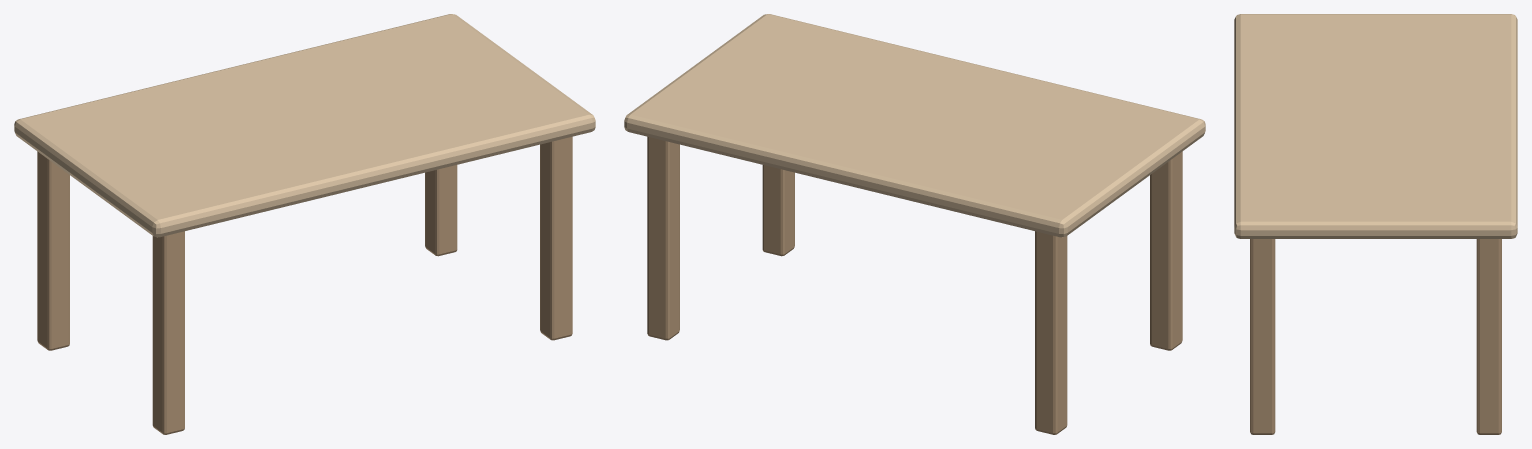
Rendered from th_tisch.glb.
3 renders of one model, left to right at view 1: azimuth 30°, elevation 25°; view 2: azimuth 150°, elevation 25°; view 3: azimuth 270°, elevation 25°, orthographic.
Visible parts, largest first — view 1: tisch; view 2: tisch; view 3: tisch.
Boxes of the visible parts, box(x1,y1,x2,y2) form: tisch: box(14, 14, 595, 434); tisch: box(624, 14, 1205, 434); tisch: box(1234, 14, 1517, 434).
Size of the model in its own units: 1.6 by 0.77 by 0.9.
